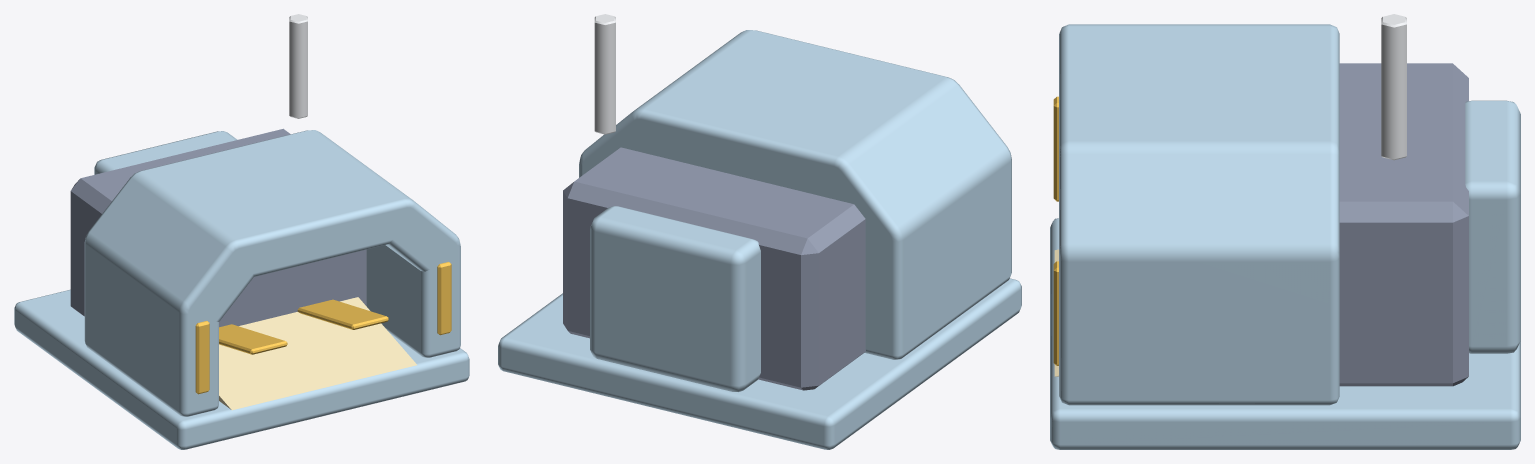
The model's file is R4X_GroundDroneDeployer.glb.
3 views of the same model, side by side, from view 1: azimuth 30°, elevation 25°; view 2: azimuth 150°, elevation 25°; view 3: azimuth 270°, elevation 25° (orthographic). The views are drawn at different scales.
Parts seen in each view (by area): view 1: R4X_GroundDroneDeployer_Body; view 2: R4X_GroundDroneDeployer_Body; view 3: R4X_GroundDroneDeployer_Body.
Boxes of the visible parts, x1,y1,x2,y2 form: R4X_GroundDroneDeployer_Body: [14, 14, 469, 449]; R4X_GroundDroneDeployer_Body: [498, 14, 1021, 449]; R4X_GroundDroneDeployer_Body: [1050, 14, 1520, 449].
Size of the model in its own units: 0.52 by 0.4875 by 0.52.
